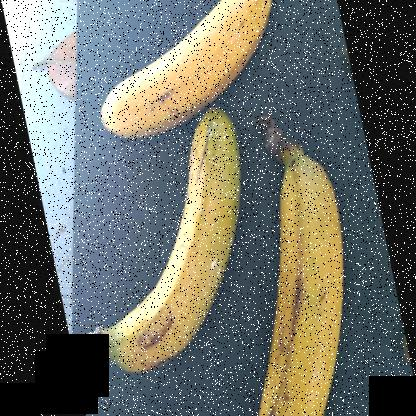freshripe: (84, 0, 278, 145)
ripe: (99, 107, 243, 391), (242, 150, 344, 415)
